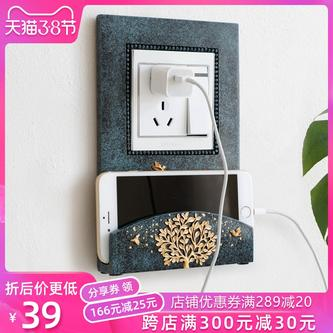switch: (193, 68, 210, 133)
